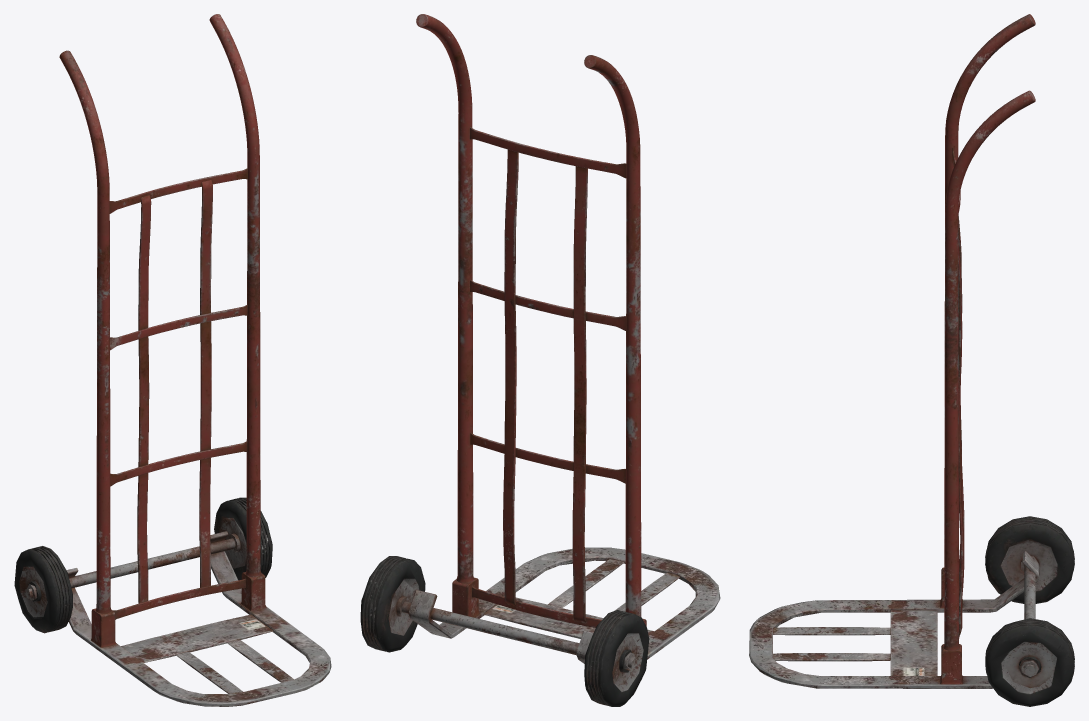
Rendered from hand_truck.glb.
The picture shows the model from 3 angles, left to right: view 1: azimuth 30°, elevation 25°; view 2: azimuth 150°, elevation 25°; view 3: azimuth 270°, elevation 25°; orthographic projection. The views are drawn at different scales.
Parts seen in each view (by area): view 1: hand_truck; view 2: hand_truck; view 3: hand_truck.
Part boxes in pixels (bbox=[...]): hand_truck: bbox=[14, 14, 331, 706]; hand_truck: bbox=[360, 14, 720, 706]; hand_truck: bbox=[749, 14, 1074, 706].
Size of the model in its own units: 0.5933 by 1.4 by 0.6922.
Materials: 1 (1 with a texture image).
